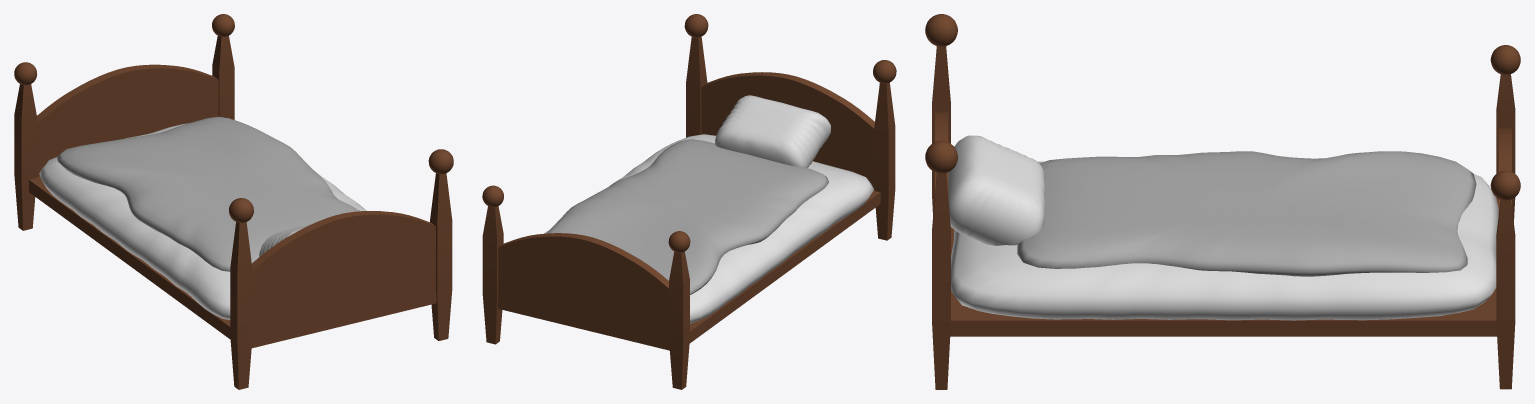
File: Lit3_4.fbx
The picture shows the model from 3 angles, left to right: view 1: azimuth 30°, elevation 25°; view 2: azimuth 150°, elevation 25°; view 3: azimuth 270°, elevation 25°; orthographic projection. The views are drawn at different scales.
Visible parts, largest first — view 1: pCylinder245, pCube954, pCube959, pCylinder247, pCube955, pCube956, pCube957, pCube960, pCube958, pCylinder246; view 2: pCylinder245, pCube959, pCylinder247, pCube954, pCylinder246, pCube955, pCube957, pCube960, pCube958, pCube956; view 3: pCylinder245, pCylinder247, pCube960, pCylinder246, pCube956, pCube958, pCube955, pCube957, pCube959.
Boxes of the visible parts, <box> form: pCylinder245: <box>56,116,360,271</box>; pCube954: <box>251,211,436,348</box>; pCube959: <box>37,64,218,176</box>; pCylinder247: <box>39,123,366,319</box>; pCube955: <box>229,198,253,389</box>; pCube956: <box>428,149,453,340</box>; pCube957: <box>14,62,37,230</box>; pCube960: <box>28,176,230,339</box>; pCube958: <box>212,14,234,119</box>; pCylinder246: <box>259,223,312,256</box>; pCylinder245: <box>547,139,828,294</box>; pCube959: <box>497,233,669,350</box>; pCylinder247: <box>544,134,873,323</box>; pCube954: <box>701,72,874,189</box>; pCylinder246: <box>715,95,830,167</box>; pCube955: <box>873,60,896,240</box>; pCube957: <box>668,231,690,389</box>; pCube960: <box>689,190,880,343</box>; pCube958: <box>482,185,503,344</box>; pCube956: <box>684,14,708,137</box>; pCylinder245: <box>1017,151,1476,276</box>; pCylinder247: <box>951,161,1498,320</box>; pCube960: <box>950,199,1498,336</box>; pCylinder246: <box>948,135,1045,245</box>; pCube956: <box>925,141,957,389</box>; pCube958: <box>1490,170,1520,389</box>; pCube955: <box>925,14,957,215</box>; pCube957: <box>1490,45,1520,222</box>; pCube959: <box>1498,128,1511,214</box>.
Size of the model in its own units: 82.19 by 66.59 by 147.
